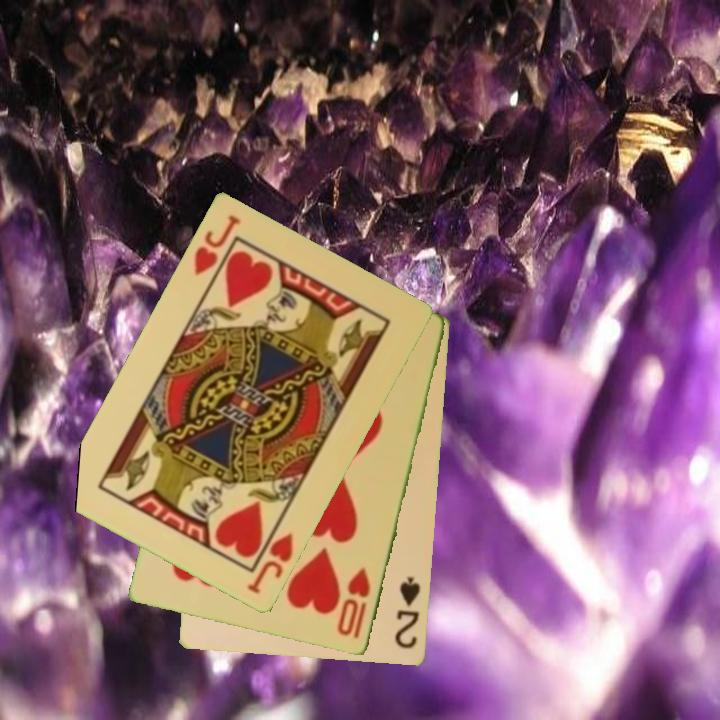10h: (334, 565, 374, 642)
2s: (392, 574, 424, 652)
Jh: (244, 529, 297, 598), (190, 212, 244, 279)
